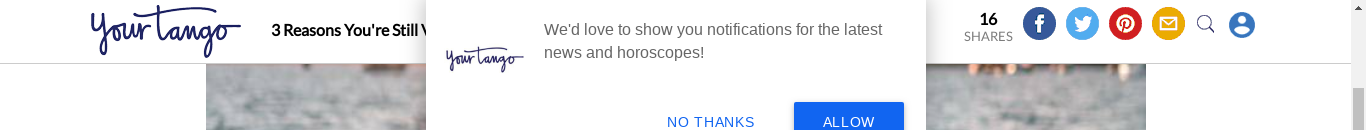fake_button: (777, 95, 926, 130)
